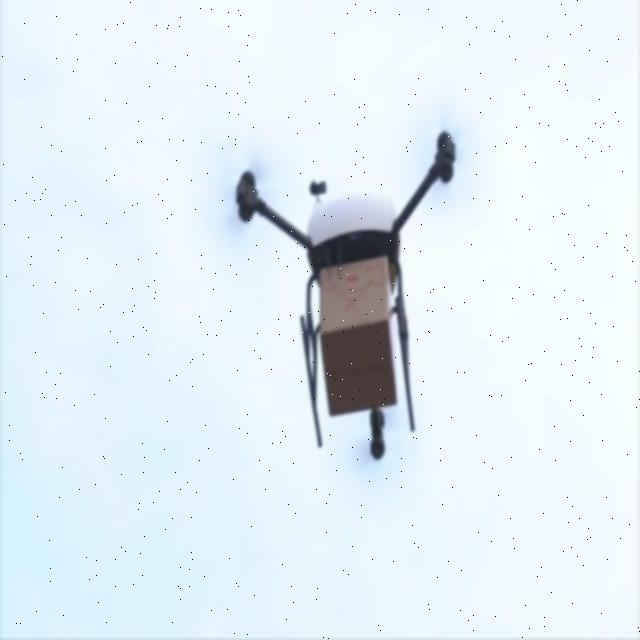UAV: (228, 127, 467, 469)
